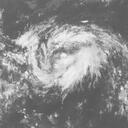cyclone: (30, 24, 98, 89)
